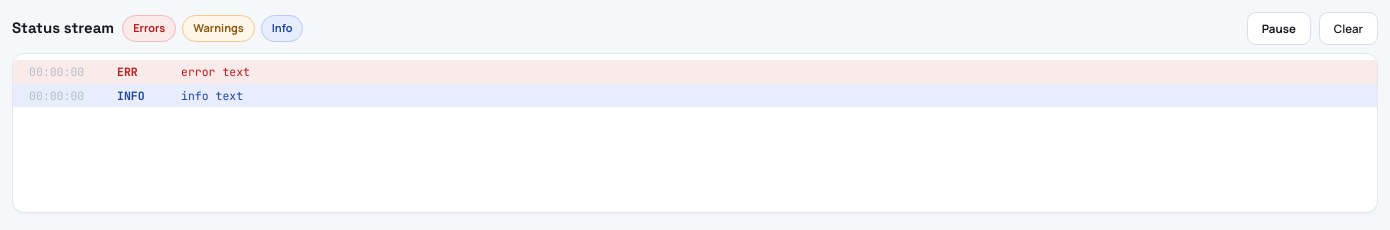
Test case: StatusStream › toggling all three chips off shows the normal empty row, not a special "filtered" message
Step 1. Click the button "Errors" → (149, 29), box x1=122 y1=15 x2=176 y2=42
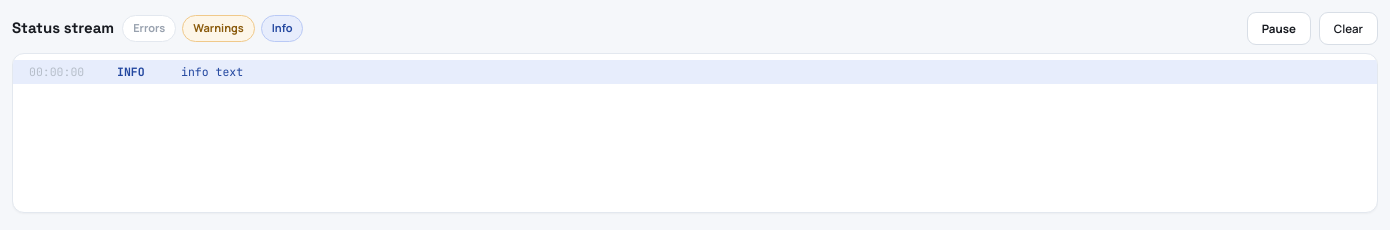
Step 2. Click the button "Warnings" → (218, 29), box x1=182 y1=15 x2=255 y2=42
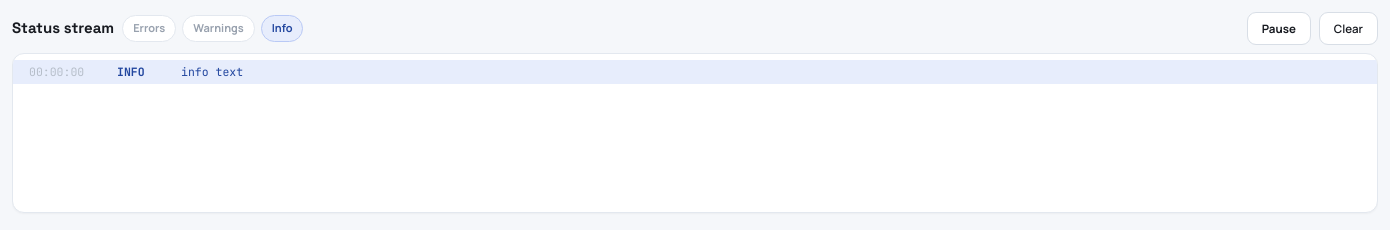
Step 3. Click the button "Info" → (282, 29), box x1=261 y1=15 x2=304 y2=42
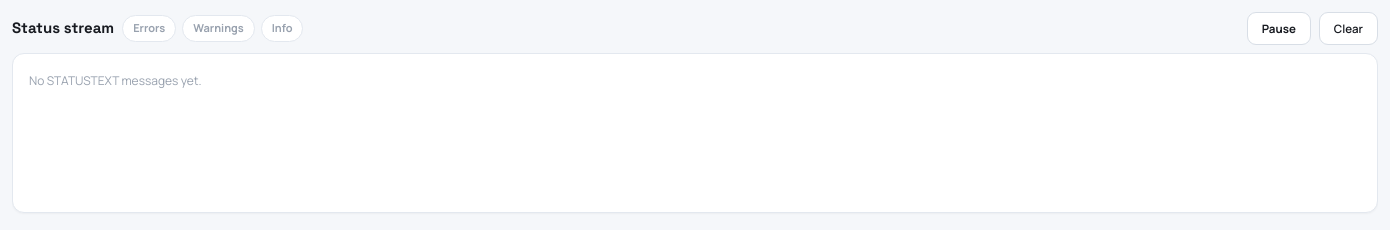
Now the text "No STATUSTEXT messages yet." is shown, box x1=29 y1=72 x2=202 y2=89
